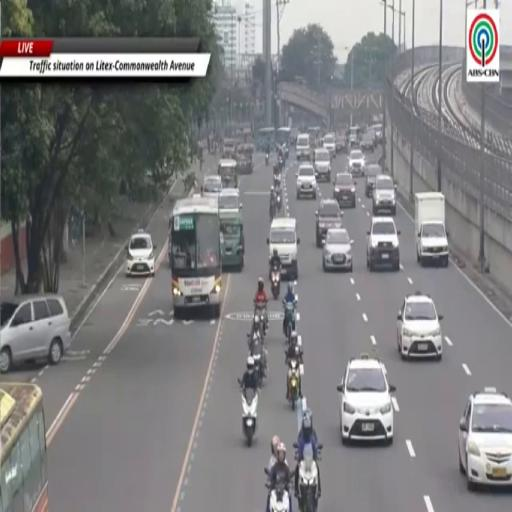bus: (169, 196, 223, 317), (0, 382, 48, 511), (256, 127, 275, 151), (276, 126, 291, 145)
car: (0, 294, 71, 374), (459, 388, 511, 490), (337, 354, 395, 443), (397, 293, 442, 360), (267, 218, 299, 279), (367, 217, 399, 270), (126, 230, 155, 277), (323, 229, 353, 271), (316, 199, 342, 247), (373, 175, 396, 215), (333, 173, 356, 207), (296, 164, 317, 200), (365, 164, 383, 197), (219, 188, 242, 213), (313, 149, 330, 182), (201, 175, 222, 197), (348, 150, 365, 177), (296, 134, 311, 161), (360, 131, 375, 152), (323, 133, 336, 157), (348, 126, 360, 148), (372, 124, 383, 142), (336, 135, 347, 153)
jeepney: (219, 210, 244, 270), (218, 159, 238, 187), (237, 143, 254, 174), (222, 139, 236, 158)
motorcycle: (297, 455, 318, 511), (241, 390, 258, 446), (250, 343, 266, 387), (288, 359, 300, 410), (269, 483, 290, 511), (284, 302, 295, 344), (254, 303, 267, 337), (271, 266, 280, 299), (316, 443, 323, 461), (273, 173, 281, 188), (270, 199, 275, 221), (276, 193, 282, 211), (278, 156, 284, 172), (265, 153, 269, 166), (285, 146, 289, 158)
truck: (415, 192, 449, 266)
